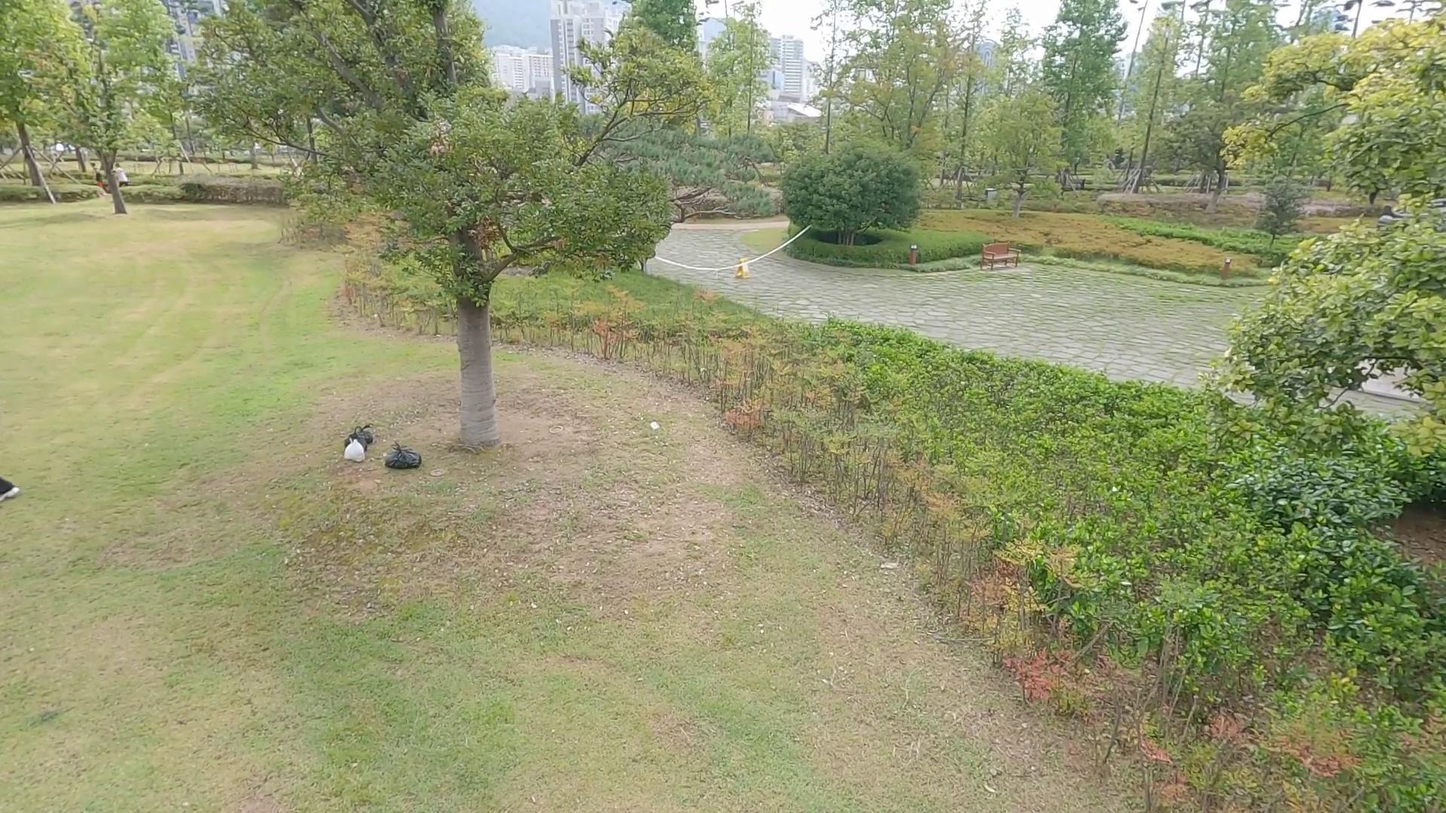trash: (382, 442, 421, 471), (343, 426, 368, 452), (341, 438, 365, 465), (358, 424, 373, 443)
